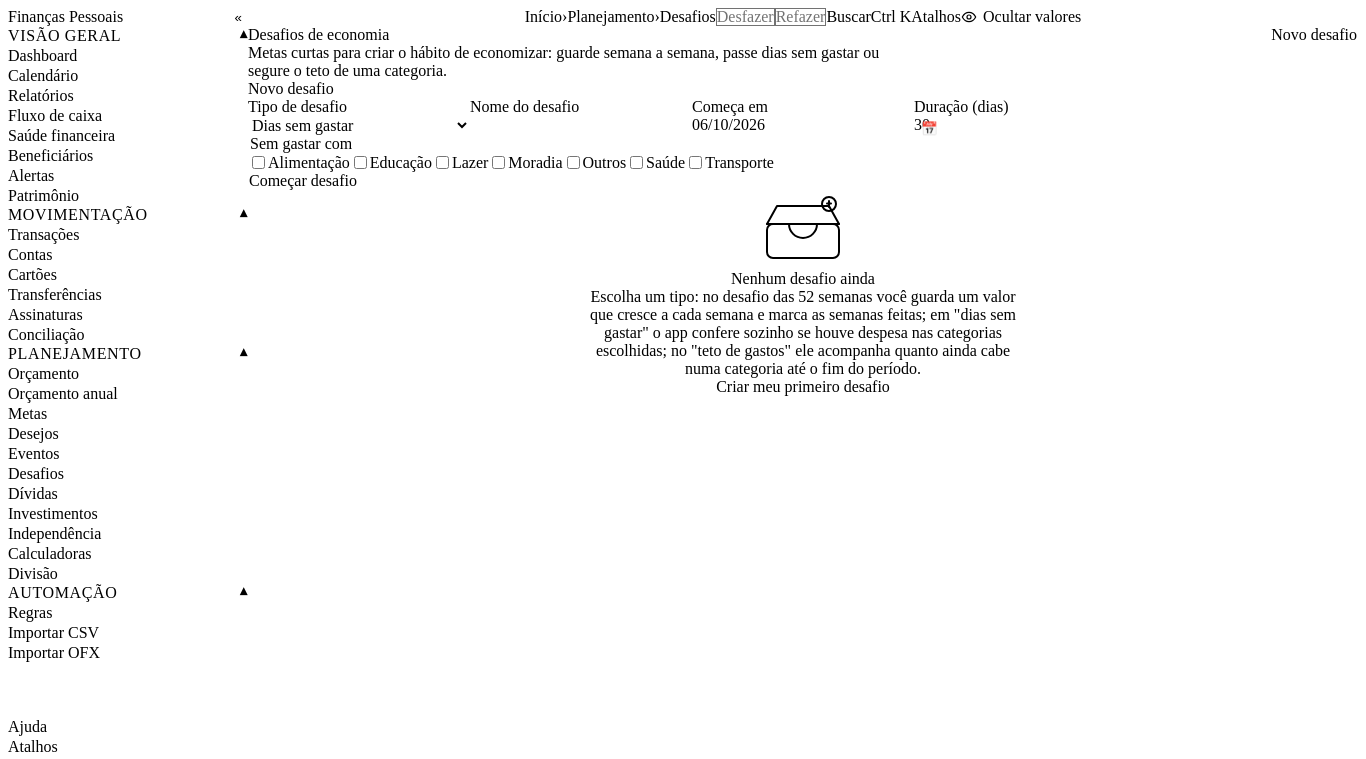
Test: redesenho de Desafios › critério 6: erro de validação fica junto ao campo, sem alerta fixo no topo
Click the button "Começar desafio".
click(303, 181)  # box [248,172,358,190]
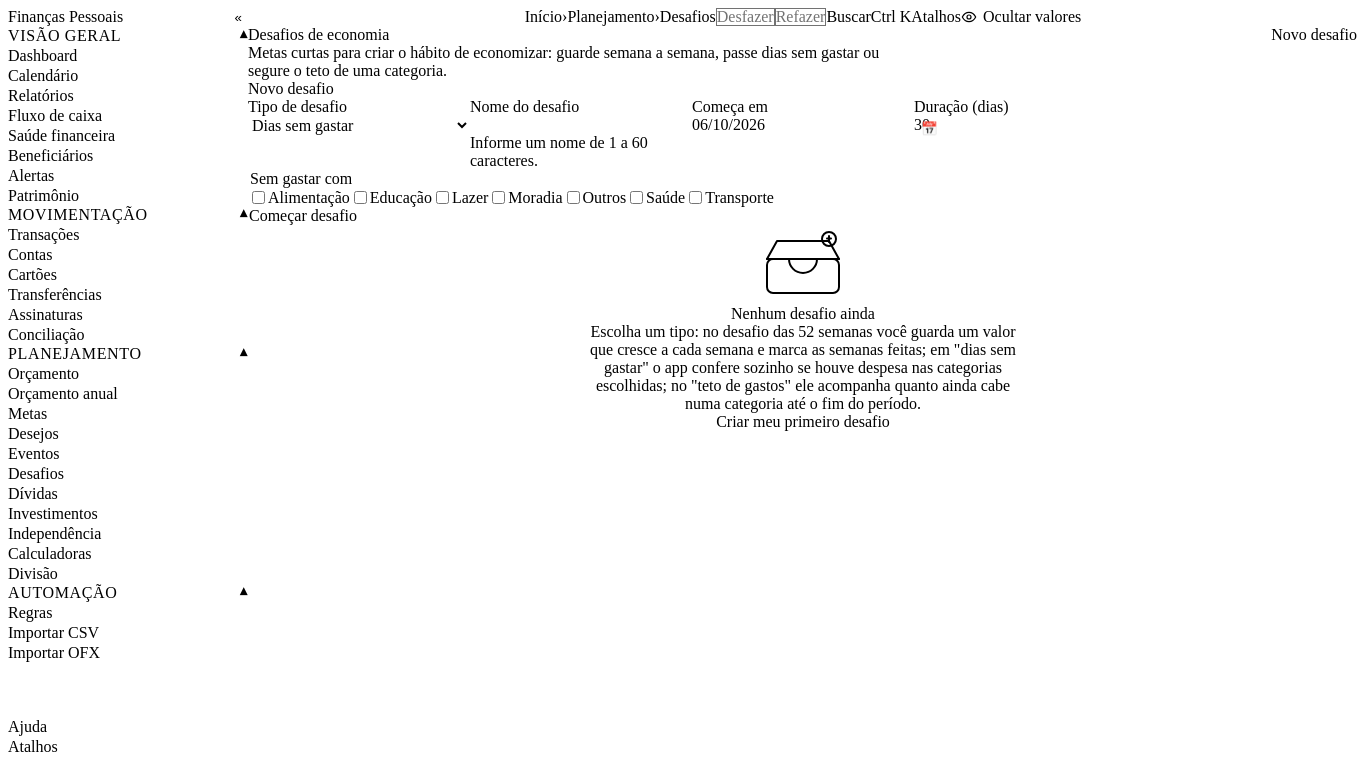
Expected: the message "Informe um nome de 1 a 60 caracteres." is shown, [470,134,648,169]
